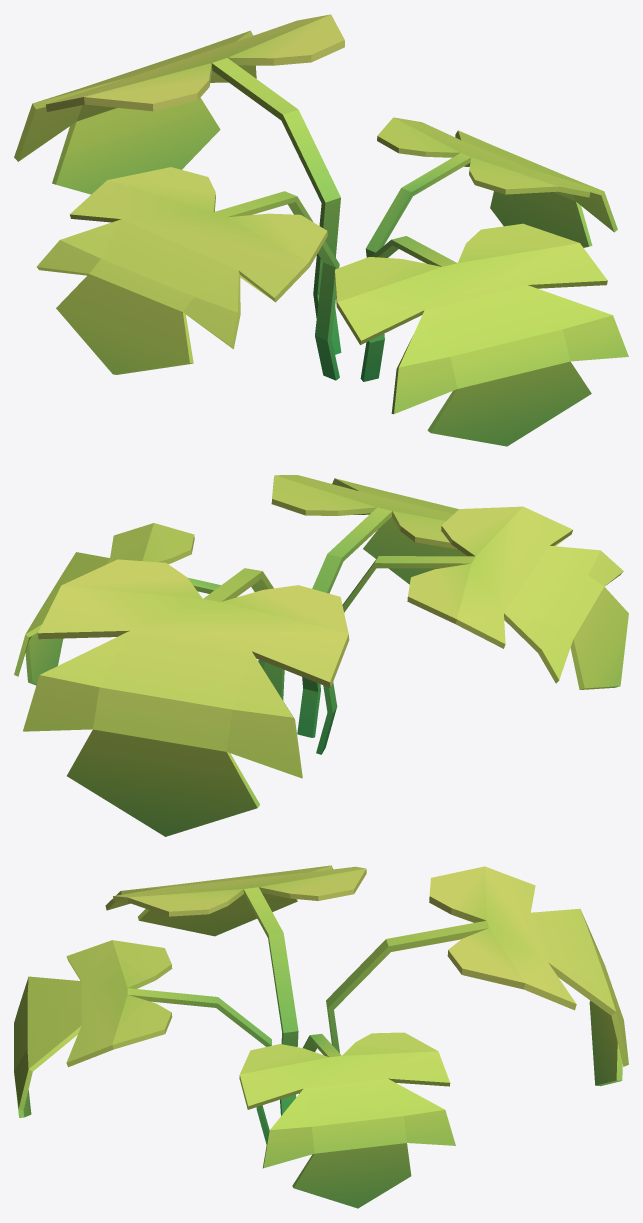
The model's file is Plant_4.fbx.
3 renders of one model, top to bottom at view 1: azimuth 30°, elevation 25°; view 2: azimuth 150°, elevation 25°; view 3: azimuth 270°, elevation 25°, orthographic. The views are drawn at different scales.
Parts seen in each view (by area): view 1: Plant_4; view 2: Plant_4; view 3: Plant_4.
Part boxes in pixels (<box>): Plant_4: <box>14,14,628,446</box>; Plant_4: <box>14,475,628,836</box>; Plant_4: <box>14,865,628,1208</box>.
Size of the model in its own units: 1.91 by 0.8109 by 2.12.
